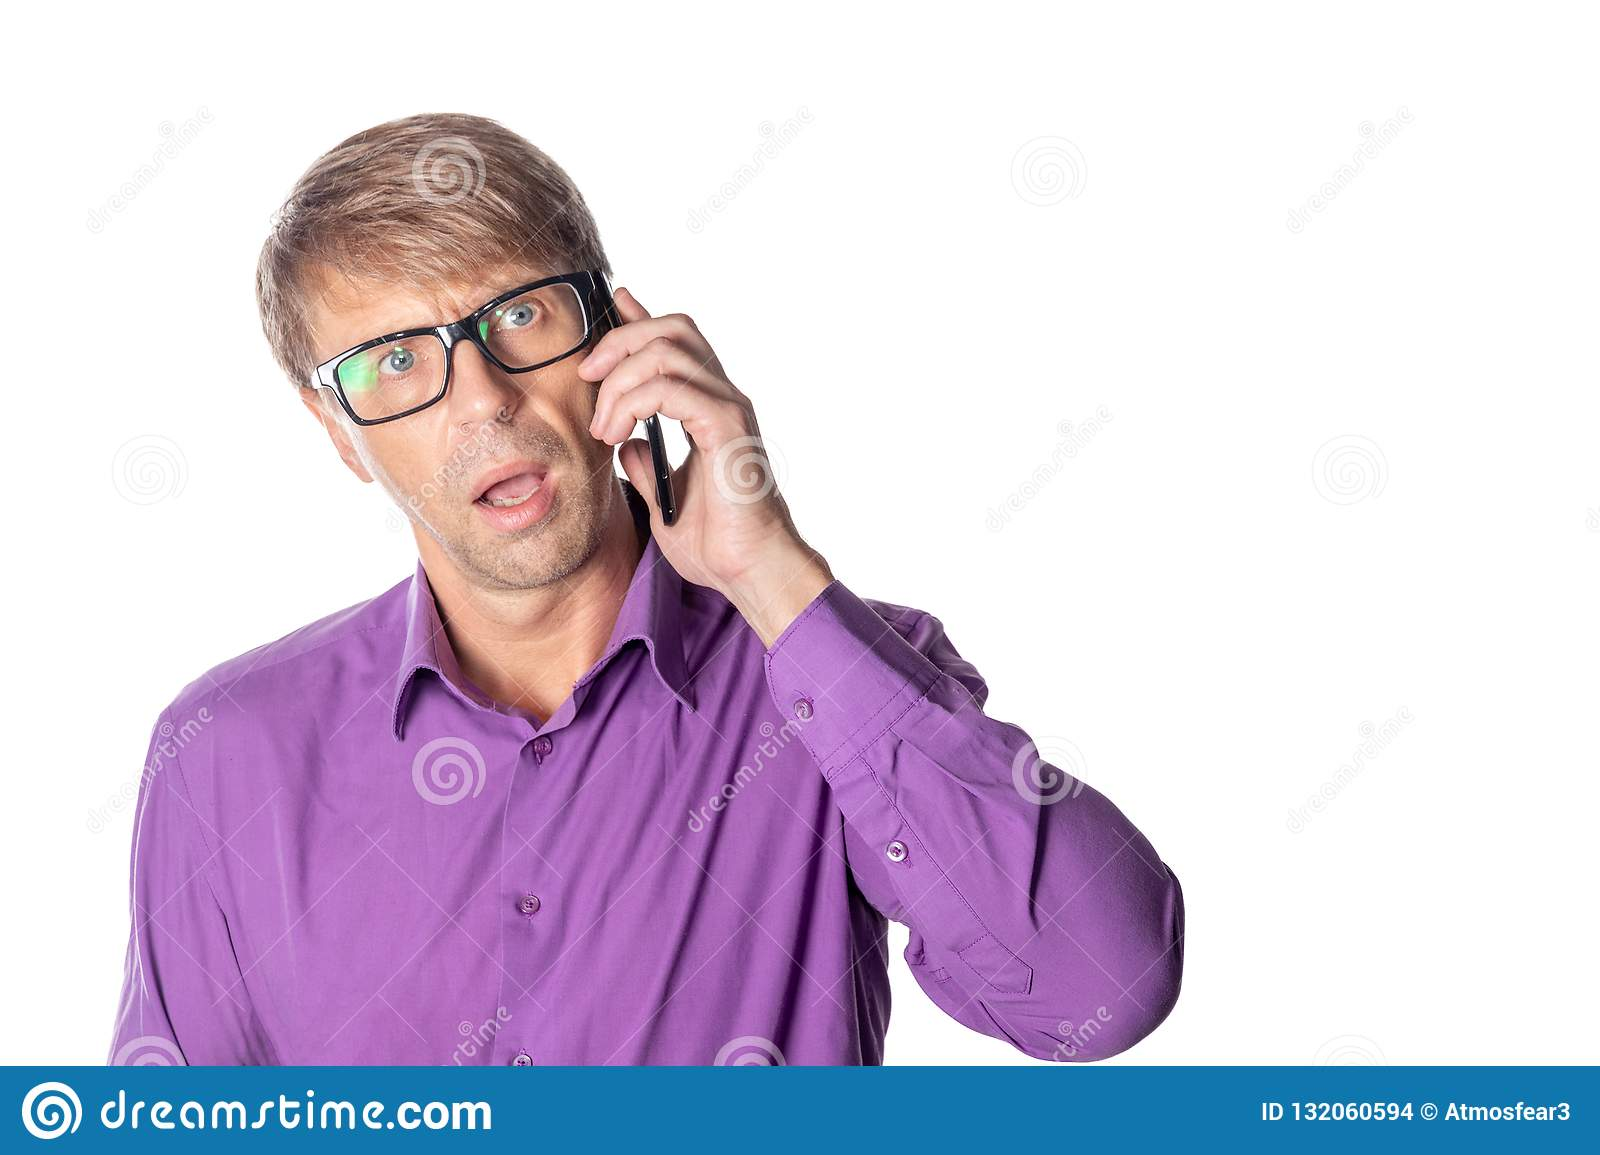phone: (584, 263, 688, 533)
talk: (325, 258, 785, 600)
